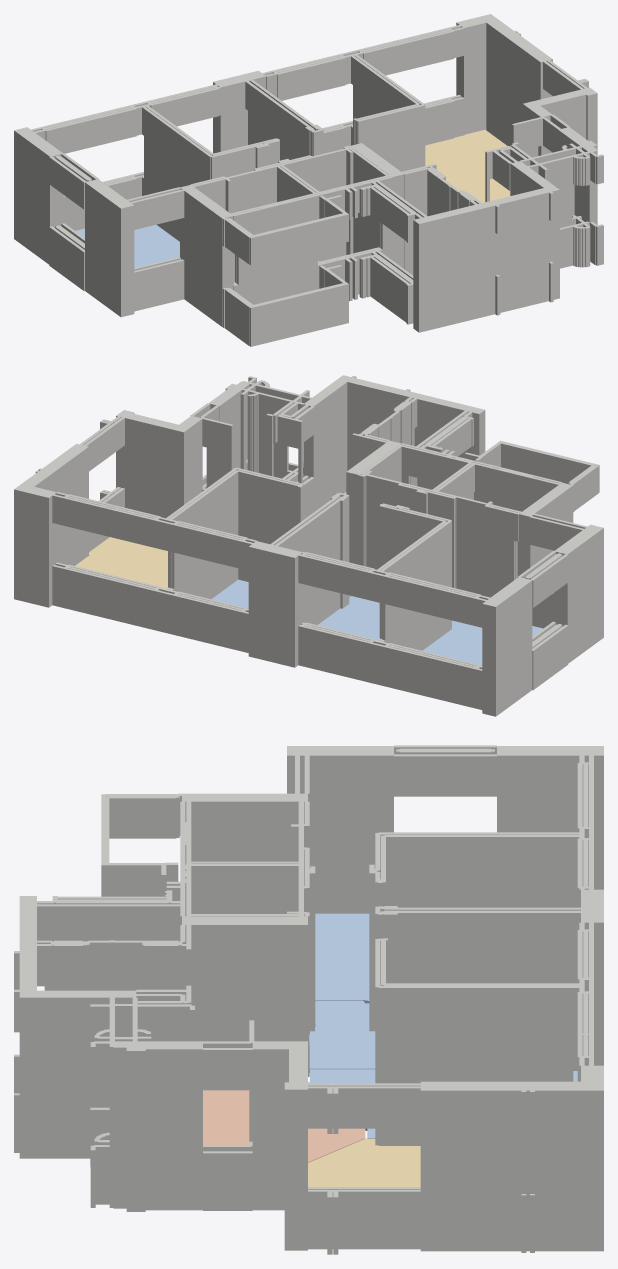
3 views of the same model, one above another, from view 1: azimuth 30°, elevation 25°; view 2: azimuth 150°, elevation 25°; view 3: azimuth 270°, elevation 25° (orthographic). The views are drawn at different scales.
Visible parts, largest first — view 1: walls, room:living:2, room:bedroom:0; view 2: walls, room:living:2, room:bedroom:0, room:bedroom:1, room:bedroom:3; view 3: walls, room:bedroom:0, room:living:2, room:bedroom:1, room:kitchen:8, room:bedroom:3.
Part boxes in pixels (box(x1,y1,x2,y2)): walls: box(14, 14, 603, 346); room:living:2: box(425, 129, 510, 202); room:bedroom:0: box(75, 224, 179, 267); walls: box(14, 375, 603, 716); room:living:2: box(75, 537, 167, 588); room:bedroom:0: box(422, 620, 543, 665); room:bedroom:1: box(317, 596, 379, 640); room:bedroom:3: box(212, 579, 350, 608); walls: box(14, 745, 603, 1254); room:bedroom:0: box(315, 913, 369, 1003); room:living:2: box(308, 1138, 420, 1186); room:bedroom:1: box(309, 1000, 375, 1069); room:kitchen:8: box(203, 1090, 365, 1162); room:bedroom:3: box(308, 1069, 577, 1138).
Size of the model in its own units: 13 by 2.8 by 9.31.
